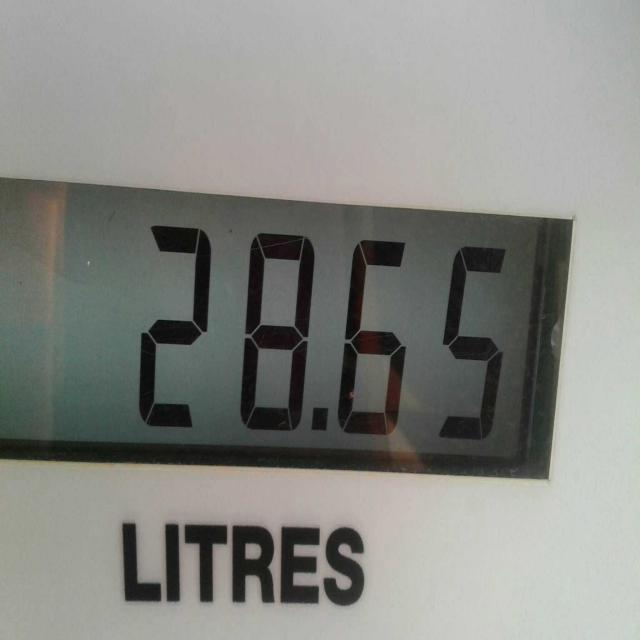.: (310, 402, 334, 431)
2: (134, 219, 218, 435)
5: (438, 238, 500, 446)
6: (339, 236, 405, 443)
8: (240, 232, 313, 433)
screen: (0, 170, 553, 478)
